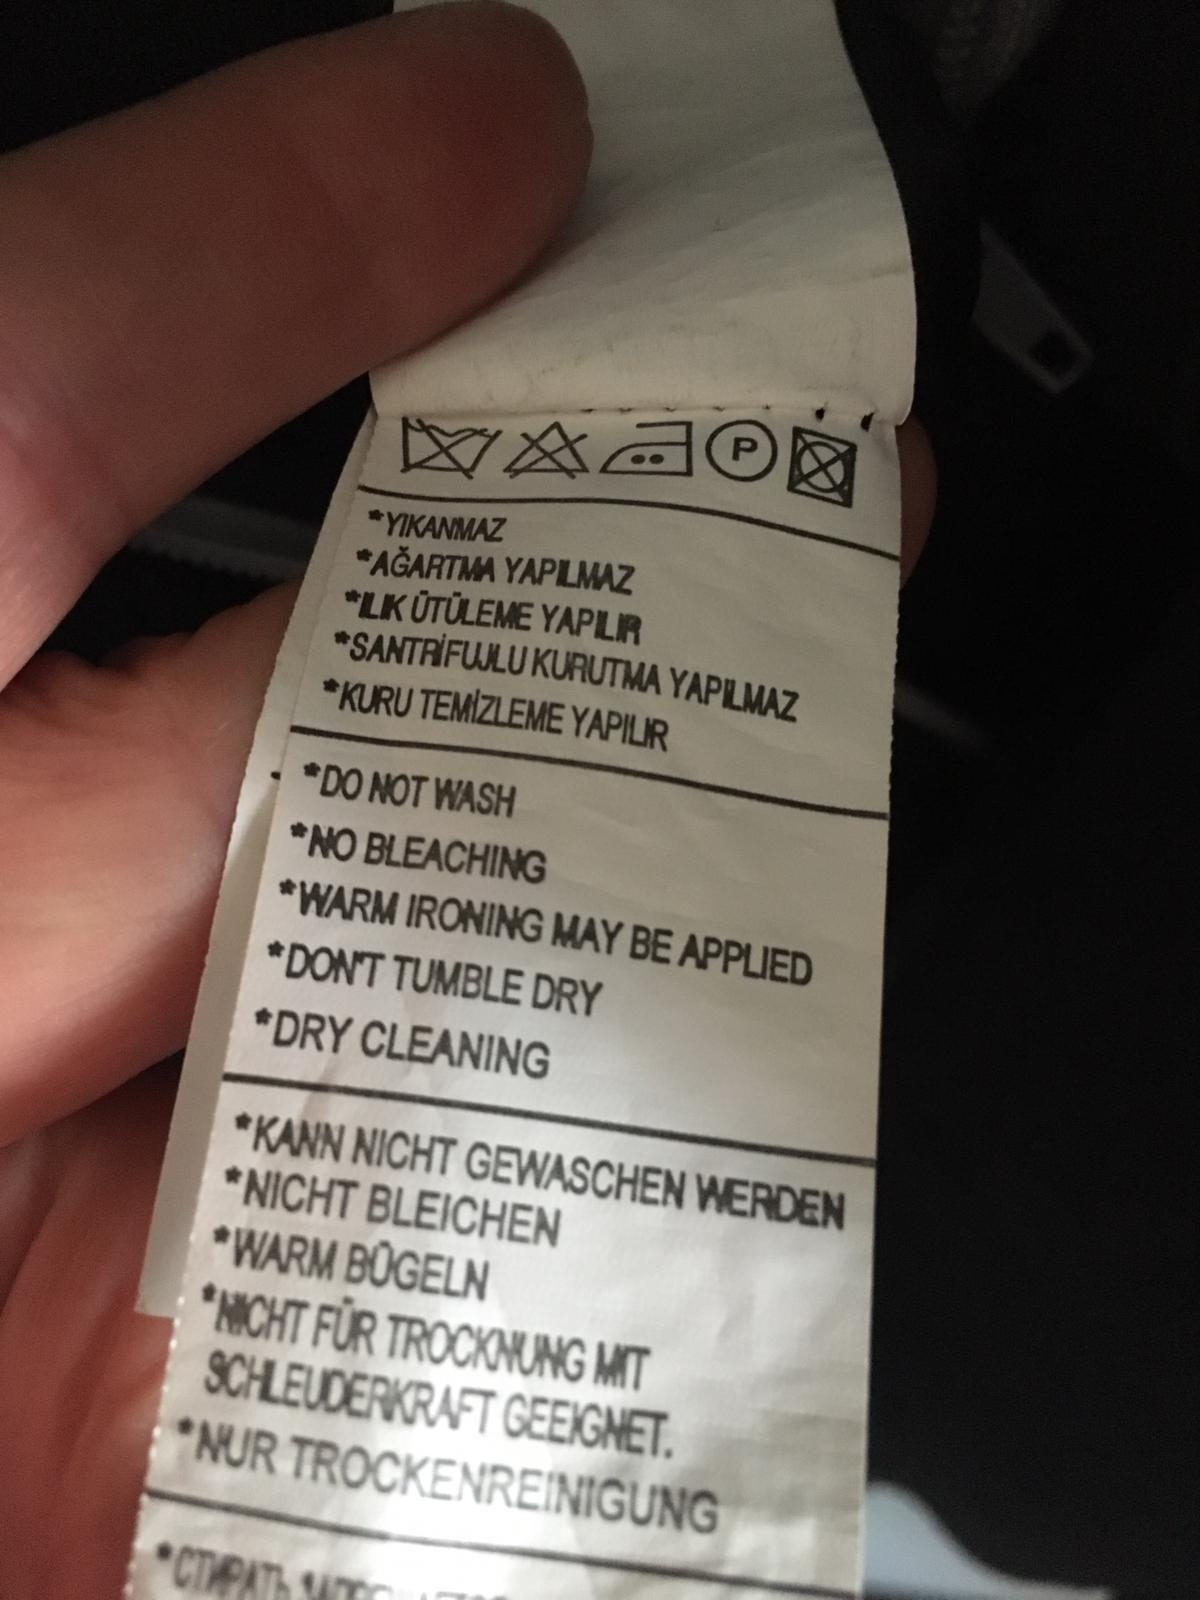do_not_bleach: (505, 414, 596, 488)
do_not_wash: (392, 414, 498, 483)
